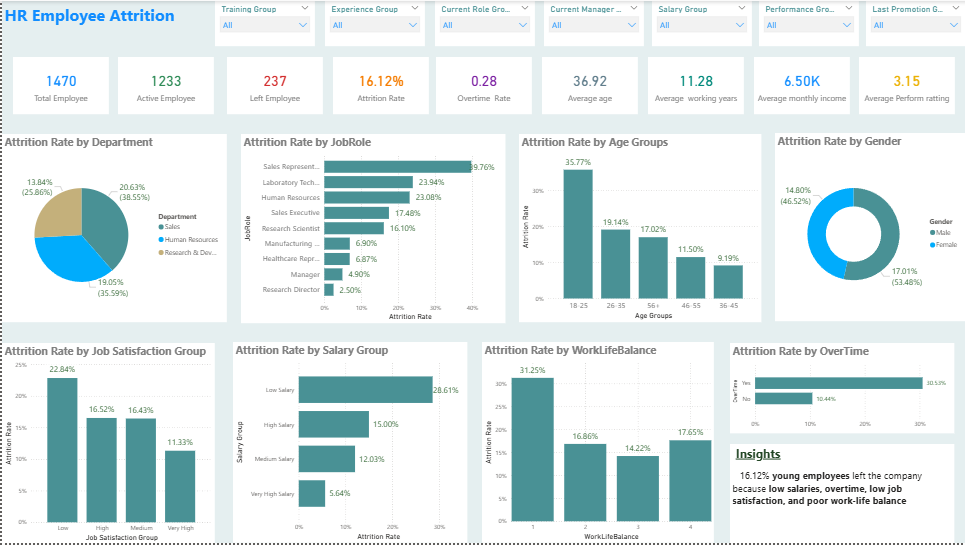

The dashboard page shown, as its layout file describes it:
{"tool":"powerbi","page":{"name":"Total employe","canvas":[1920,1080],"ordinal":0},"visuals":[{"type":"textbox","box":[0,0,754.9,65.6],"z":0},{"type":"card","fields":{"Values":["WA_Fn-UseC_-HR-Employee-Attrition.Total Employee"]},"box":[21.9,111.6,191.3,113.6],"z":1000},{"type":"pieChart","fields":{"Category":["WA_Fn-UseC_-HR-Employee-Attrition.Department"],"Y":["WA_Fn-UseC_-HR-Employee-Attrition.Attrition Rate"]},"box":[0,264.4,448.4,374.8],"z":2000},{"type":"slicer","fields":{"Values":["WA_Fn-UseC_-HR-Employee-Attrition.Training Group"]},"box":[424.4,0,199.3,89.7],"z":3000},{"type":"card","fields":{"Values":["WA_Fn-UseC_-HR-Employee-Attrition.Active Employee"]},"box":[231.1,111.6,191.3,113.6],"z":4000},{"type":"card","fields":{"Values":["WA_Fn-UseC_-HR-Employee-Attrition.Left Employee"]},"box":[448.3,111.6,191.3,113.6],"z":5000},{"type":"card","fields":{"Values":["WA_Fn-UseC_-HR-Employee-Attrition.Attibution Rate"]},"box":[659.6,111.6,191.3,113.6],"z":6000},{"type":"card","fields":{"Values":["WA_Fn-UseC_-HR-Employee-Attrition.Overtime  %"]},"box":[864.8,111.6,191.3,113.6],"z":7000},{"type":"card","fields":{"Values":["WA_Fn-UseC_-HR-Employee-Attrition.Average age"]},"box":[1076,111.6,191.3,113.6],"z":8000},{"type":"card","fields":{"Values":["WA_Fn-UseC_-HR-Employee-Attrition.Average  working years"]},"box":[1287.2,111.6,191.3,113.6],"z":9000},{"type":"card","fields":{"Values":["WA_Fn-UseC_-HR-Employee-Attrition.Average monthly income"]},"box":[1498.5,111.6,191.3,113.6],"z":10000},{"type":"card","fields":{"Values":["WA_Fn-UseC_-HR-Employee-Attrition.Average Perform ratting"]},"box":[1707.7,111.6,191.3,113.6],"z":11000},{"type":"slicer","fields":{"Values":["WA_Fn-UseC_-HR-Employee-Attrition.Experience Group"]},"box":[643.6,0,199.3,89.7],"z":12000},{"type":"slicer","fields":{"Values":["WA_Fn-UseC_-HR-Employee-Attrition.Years in Current Role Group"]},"box":[862.8,0,199.3,89.7],"z":13000},{"type":"slicer","fields":{"Values":["WA_Fn-UseC_-HR-Employee-Attrition.Years With Current Manager Group"]},"box":[1080,0,199.3,89.7],"z":14000},{"type":"slicer","fields":{"Values":["WA_Fn-UseC_-HR-Employee-Attrition.Salary Group"]},"box":[1295.2,0,199.3,89.7],"z":15000},{"type":"slicer","fields":{"Values":["WA_Fn-UseC_-HR-Employee-Attrition.Performance Group"]},"box":[1508.4,0,199.3,89.7],"z":16000},{"type":"slicer","fields":{"Values":["WA_Fn-UseC_-HR-Employee-Attrition.Years Since Last Promotion Group"]},"box":[1721.6,0,199.3,89.7],"z":17000},{"type":"clusteredBarChart","fields":{"Category":["WA_Fn-UseC_-HR-Employee-Attrition.JobRole"],"Y":["WA_Fn-UseC_-HR-Employee-Attrition.Attrition Rate"]},"box":[476,264.4,526.6,377.1],"z":18000},{"type":"donutChart","fields":{"Category":["WA_Fn-UseC_-HR-Employee-Attrition.Gender"],"Y":["WA_Fn-UseC_-HR-Employee-Attrition.Attrition Rate"]},"box":[1541.1,263.8,378.8,374.9],"z":19000},{"type":"clusteredBarChart","fields":{"Category":["WA_Fn-UseC_-HR-Employee-Attrition.OverTime"],"Y":["WA_Fn-UseC_-HR-Employee-Attrition.Attrition Rate"]},"box":[1451.2,680.7,447.4,179.8],"z":20000},{"type":"columnChart","fields":{"Category":["WA_Fn-UseC_-HR-Employee-Attrition.Age Groups"],"Y":["WA_Fn-UseC_-HR-Employee-Attrition.Attrition Rate"]},"box":[1030.1,264.4,482.9,374.8],"z":21000},{"type":"lineClusteredColumnComboChart","fields":{"Category":["WA_Fn-UseC_-HR-Employee-Attrition.Job Satisfaction Group"],"Y":["WA_Fn-UseC_-HR-Employee-Attrition.Attrition Rate"]},"box":[0,680.7,423.8,400.3],"z":22000},{"type":"columnChart","fields":{"Category":["WA_Fn-UseC_-HR-Employee-Attrition.WorkLifeBalance"],"Y":["WA_Fn-UseC_-HR-Employee-Attrition.Attrition Rate"]},"box":[956.8,679.7,462.3,400.3],"z":23000},{"type":"barChart","fields":{"Category":["WA_Fn-UseC_-HR-Employee-Attrition.Salary Group"],"Y":["WA_Fn-UseC_-HR-Employee-Attrition.Attrition Rate"]},"box":[460.2,679.7,466.6,400.3],"z":24000},{"type":"shape","box":[1451.2,881.9,447.4,199.1],"z":25000},{"type":"textbox","box":[1450.6,878.7,448.3,201.3],"z":26000}]}

Visuals, with their boxes in screenshot pixels (x1, y1, x2, y2), scaled from the page's 1920x1080 canvas onto the 965x545 screenshot:
textbox: bbox(0, 0, 379, 33)
card - WA_Fn-UseC_-HR-Employee-Attrition.Total Employee: bbox(11, 56, 107, 114)
pieChart - WA_Fn-UseC_-HR-Employee-Attrition.Department x WA_Fn-UseC_-HR-Employee-Attrition.Attrition Rate: bbox(0, 133, 225, 323)
slicer - WA_Fn-UseC_-HR-Employee-Attrition.Training Group: bbox(213, 0, 313, 45)
card - WA_Fn-UseC_-HR-Employee-Attrition.Active Employee: bbox(116, 56, 212, 114)
card - WA_Fn-UseC_-HR-Employee-Attrition.Left Employee: bbox(225, 56, 321, 114)
card - WA_Fn-UseC_-HR-Employee-Attrition.Attibution Rate: bbox(332, 56, 428, 114)
card - WA_Fn-UseC_-HR-Employee-Attrition.Overtime  %: bbox(435, 56, 531, 114)
card - WA_Fn-UseC_-HR-Employee-Attrition.Average age: bbox(541, 56, 637, 114)
card - WA_Fn-UseC_-HR-Employee-Attrition.Average  working years: bbox(647, 56, 743, 114)
card - WA_Fn-UseC_-HR-Employee-Attrition.Average monthly income: bbox(753, 56, 849, 114)
card - WA_Fn-UseC_-HR-Employee-Attrition.Average Perform ratting: bbox(858, 56, 954, 114)
slicer - WA_Fn-UseC_-HR-Employee-Attrition.Experience Group: bbox(323, 0, 424, 45)
slicer - WA_Fn-UseC_-HR-Employee-Attrition.Years in Current Role Group: bbox(434, 0, 534, 45)
slicer - WA_Fn-UseC_-HR-Employee-Attrition.Years With Current Manager Group: bbox(543, 0, 643, 45)
slicer - WA_Fn-UseC_-HR-Employee-Attrition.Salary Group: bbox(651, 0, 751, 45)
slicer - WA_Fn-UseC_-HR-Employee-Attrition.Performance Group: bbox(758, 0, 858, 45)
slicer - WA_Fn-UseC_-HR-Employee-Attrition.Years Since Last Promotion Group: bbox(865, 0, 964, 45)
clusteredBarChart - WA_Fn-UseC_-HR-Employee-Attrition.JobRole x WA_Fn-UseC_-HR-Employee-Attrition.Attrition Rate: bbox(239, 133, 504, 324)
donutChart - WA_Fn-UseC_-HR-Employee-Attrition.Gender x WA_Fn-UseC_-HR-Employee-Attrition.Attrition Rate: bbox(775, 133, 964, 322)
clusteredBarChart - WA_Fn-UseC_-HR-Employee-Attrition.OverTime x WA_Fn-UseC_-HR-Employee-Attrition.Attrition Rate: bbox(729, 344, 954, 434)
columnChart - WA_Fn-UseC_-HR-Employee-Attrition.Age Groups x WA_Fn-UseC_-HR-Employee-Attrition.Attrition Rate: bbox(518, 133, 760, 323)
lineClusteredColumnComboChart - WA_Fn-UseC_-HR-Employee-Attrition.Job Satisfaction Group x WA_Fn-UseC_-HR-Employee-Attrition.Attrition Rate: bbox(0, 344, 213, 544)
columnChart - WA_Fn-UseC_-HR-Employee-Attrition.WorkLifeBalance x WA_Fn-UseC_-HR-Employee-Attrition.Attrition Rate: bbox(481, 343, 713, 544)
barChart - WA_Fn-UseC_-HR-Employee-Attrition.Salary Group x WA_Fn-UseC_-HR-Employee-Attrition.Attrition Rate: bbox(231, 343, 466, 544)
shape: bbox(729, 445, 954, 544)
textbox: bbox(729, 443, 954, 544)
